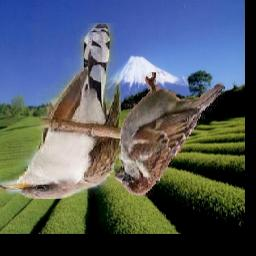Cuckoo: (0, 24, 121, 200)
Sparrow: (115, 73, 226, 197)
